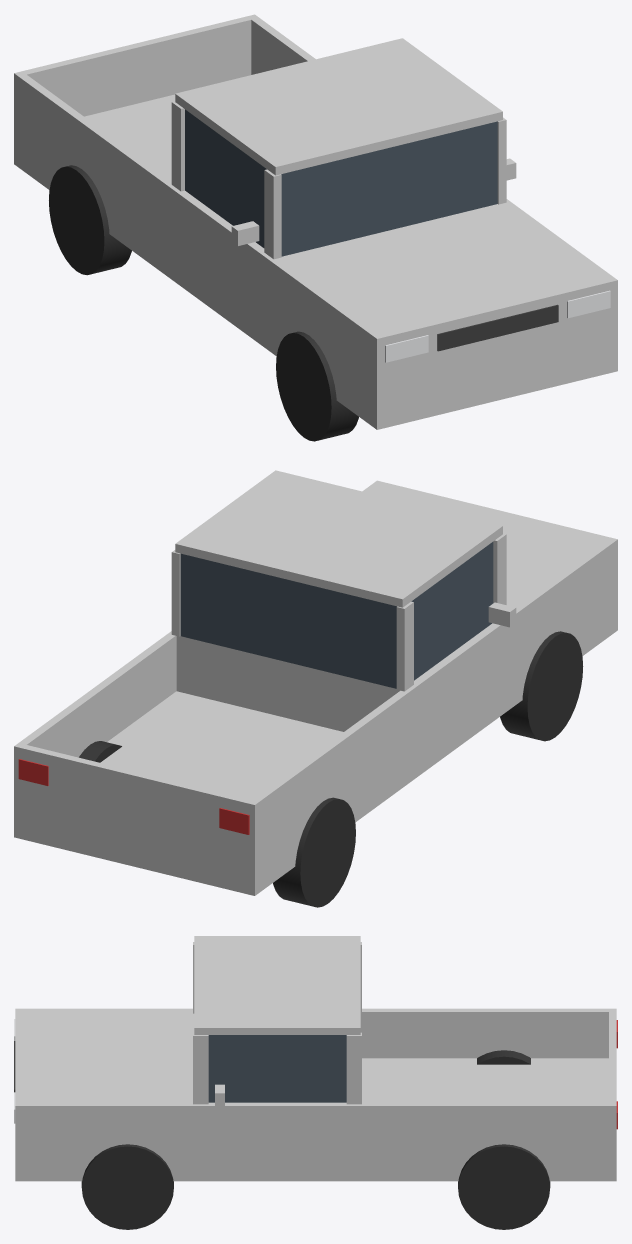
The model's file is placeholder-pickup.glb.
3 views of the same model, one above another, from view 1: azimuth 30°, elevation 25°; view 2: azimuth 150°, elevation 25°; view 3: azimuth 270°, elevation 25° (orthographic). The views are drawn at different scales.
Parts seen in each view (by area): view 1: lataria, teto, vidros, tampa_cacamba, cacamba_lateral_d, cacamba_fundo, roda_diant_d, roda_tras_d, grade, cacamba_lateral_e, coluna_a_d, coluna_c_d (+4 smaller); view 2: lataria, cacamba_fundo, teto, vidros, tampa_cacamba, cacamba_lateral_d, cacamba_lateral_e, roda_diant_d, roda_tras_d, coluna_c_d, coluna_a_d, coluna_c_e (+3 smaller); view 3: lataria, teto, cacamba_fundo, cacamba_lateral_e, cacamba_lateral_d, vidros, roda_diant_e, roda_tras_e, coluna_a_e, coluna_c_e, tampa_cacamba, roda_tras_d.
Boxes of the visible parts, x1,y1,x2,y2 form: lataria: [168, 185, 617, 429]; teto: [175, 38, 502, 175]; vidros: [185, 109, 497, 256]; tampa_cacamba: [22, 16, 251, 116]; cacamba_lateral_d: [14, 71, 171, 241]; cacamba_fundo: [14, 94, 175, 276]; roda_diant_d: [276, 331, 358, 441]; roda_tras_d: [49, 165, 131, 275]; grade: [437, 304, 558, 351]; cacamba_lateral_e: [247, 14, 315, 74]; coluna_a_d: [264, 169, 281, 259]; coluna_c_d: [171, 101, 184, 191]; lataria: [169, 480, 617, 782]; cacamba_fundo: [14, 691, 409, 895]; teto: [175, 470, 502, 607]; vidros: [180, 542, 493, 688]; tampa_cacamba: [22, 745, 250, 858]; cacamba_lateral_d: [247, 690, 409, 860]; cacamba_lateral_e: [14, 633, 176, 804]; roda_diant_d: [500, 631, 583, 741]; roda_tras_d: [273, 797, 355, 907]; coluna_c_d: [396, 601, 413, 691]; coluna_a_d: [493, 533, 506, 604]; coluna_c_e: [171, 550, 180, 636]; lataria: [15, 1008, 360, 1181]; teto: [194, 936, 360, 1034]; cacamba_fundo: [360, 1058, 616, 1181]; cacamba_lateral_e: [360, 1102, 616, 1152]; cacamba_lateral_d: [360, 1008, 616, 1058]; vidros: [208, 1035, 346, 1102]; roda_diant_e: [81, 1144, 173, 1229]; roda_tras_e: [458, 1144, 550, 1229]; coluna_a_e: [193, 1032, 208, 1104]; coluna_c_e: [346, 1032, 361, 1104]; tampa_cacamba: [609, 1012, 616, 1102]; roda_tras_d: [477, 1050, 530, 1064].
Size of the model in its own units: 2.08 by 1.7 by 4.72.
